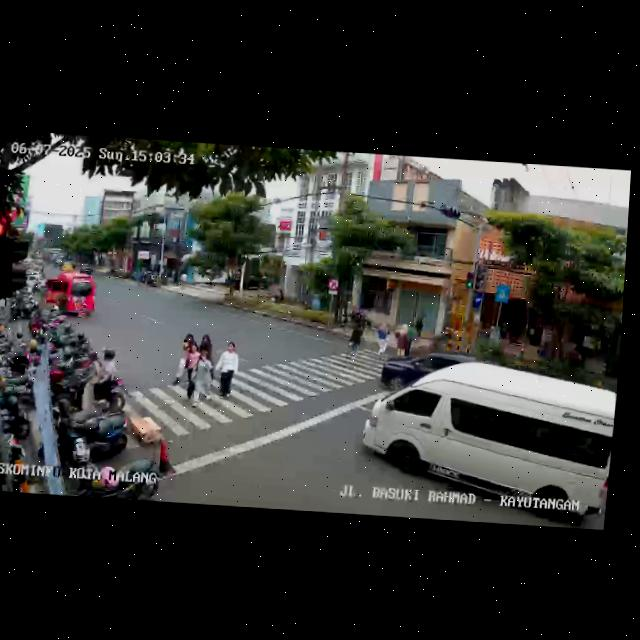car: (352, 353, 618, 528), (379, 351, 467, 392), (40, 270, 98, 321)
motorcycle: (91, 347, 129, 411)
person: (214, 339, 242, 403), (190, 349, 218, 404), (173, 330, 196, 386), (184, 343, 200, 401), (344, 320, 366, 362), (373, 319, 392, 359), (392, 321, 409, 357), (198, 331, 214, 361)
